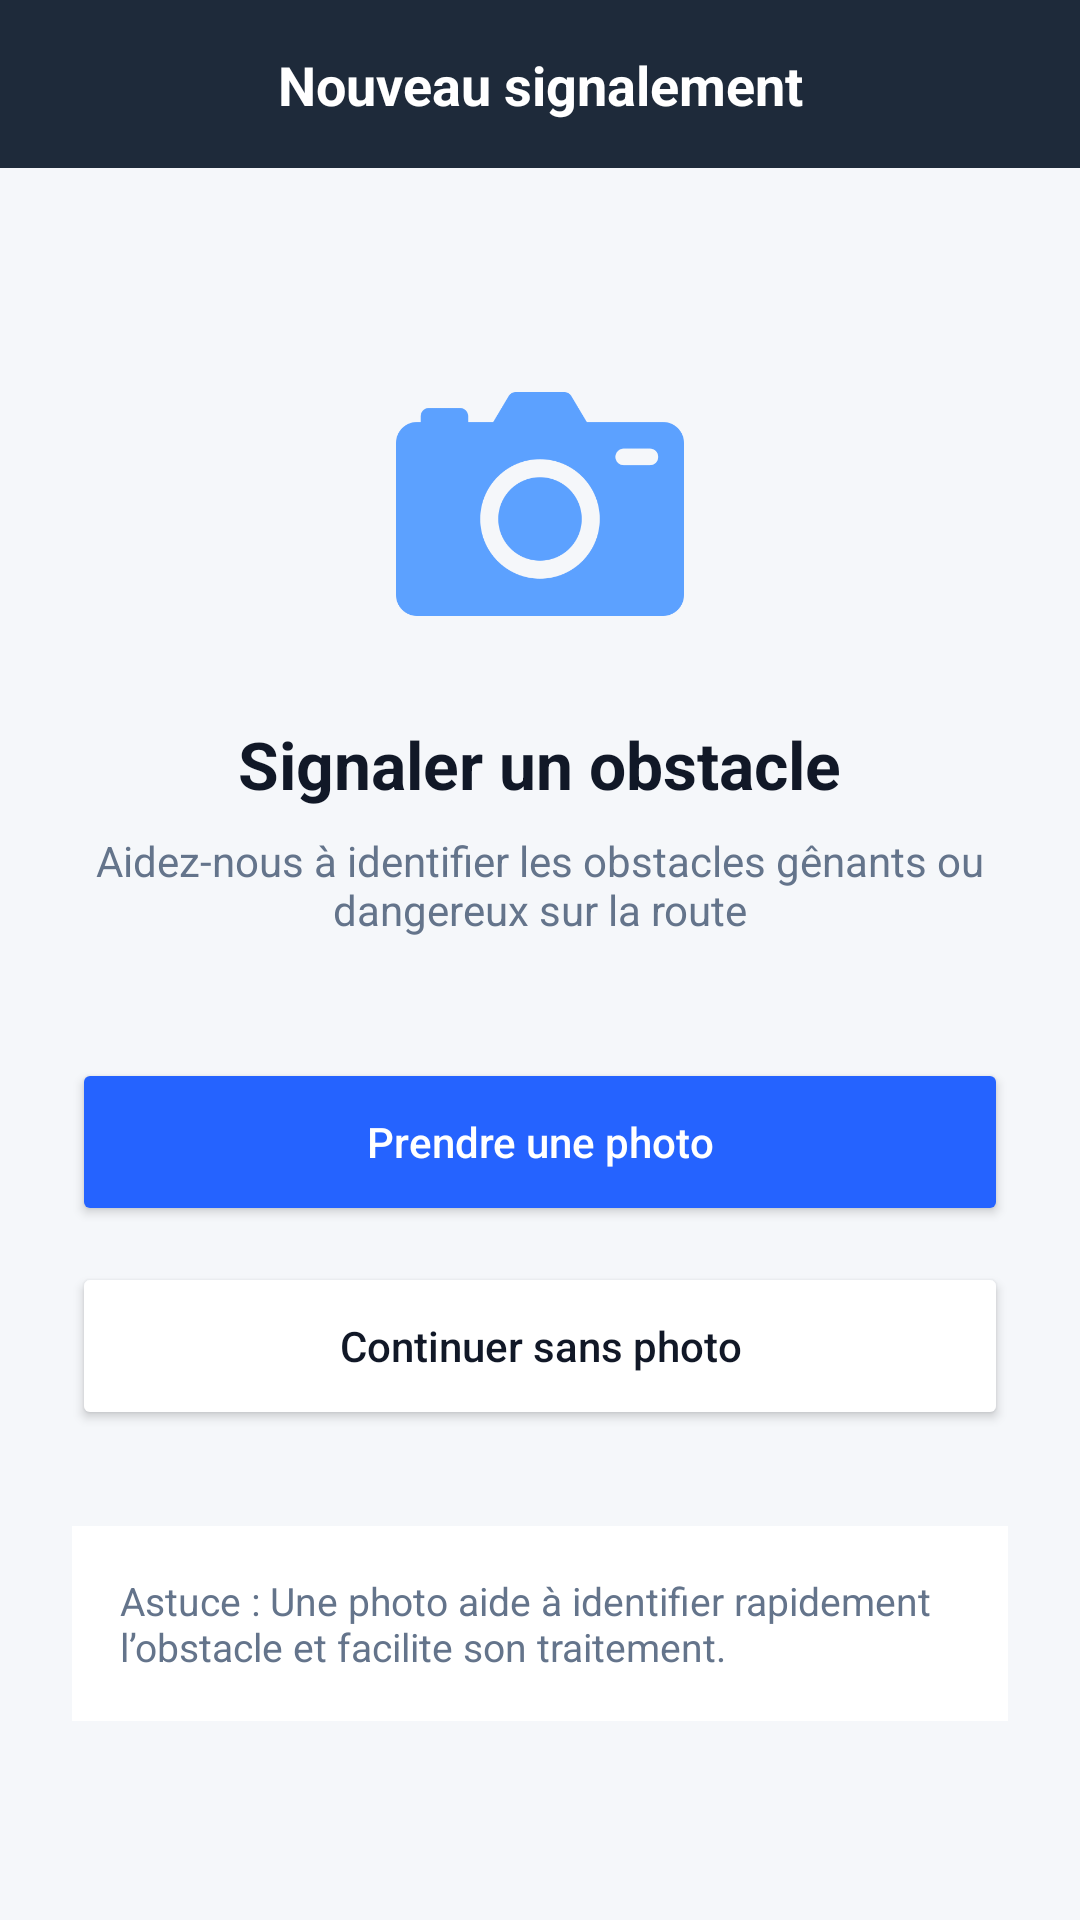

Icon click points for this 1080*1920 phone screenshot, format [x,y]:
Icône photo: [540,504]
